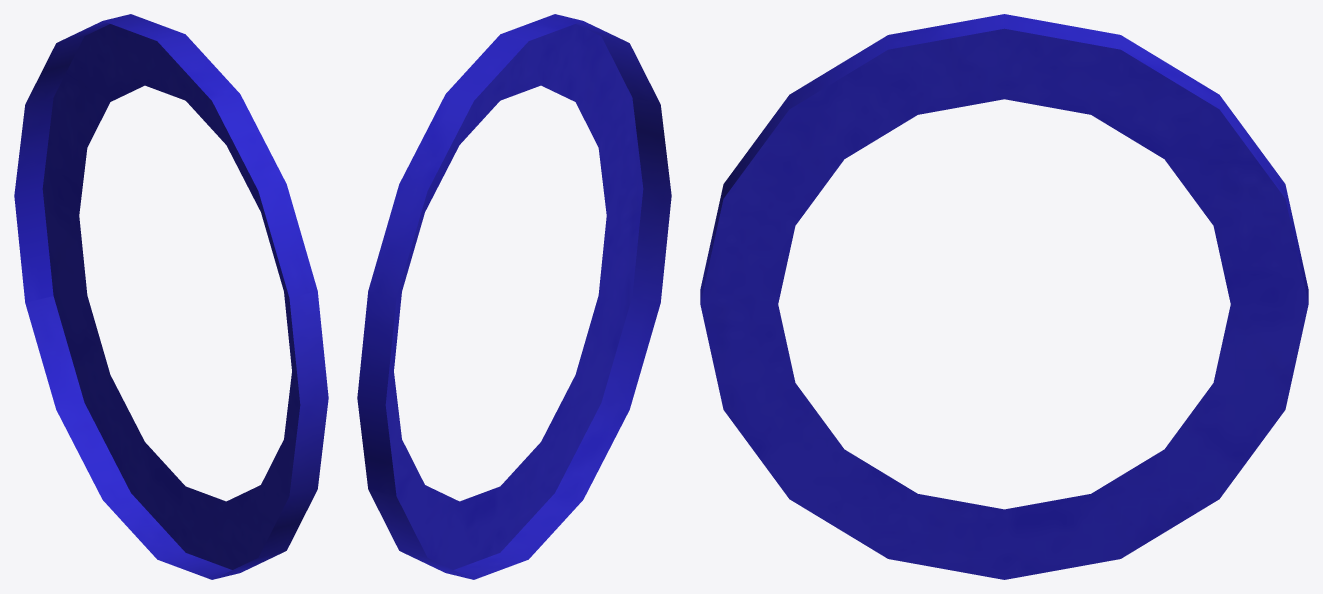
The model's file is pipeFlangeSingle.fbx.
3 renders of one model, left to right at view 1: azimuth 30°, elevation 25°; view 2: azimuth 150°, elevation 25°; view 3: azimuth 270°, elevation 25°, orthographic. The views are drawn at different scales.
Visible parts, largest first — view 1: pipeFlange; view 2: pipeFlange; view 3: pipeFlange.
Boxes of the visible parts, x1,y1,x2,y2 form: pipeFlange: (14, 14, 328, 579); pipeFlange: (357, 14, 671, 579); pipeFlange: (700, 14, 1308, 579).
Size of the model in its own units: 0.0246 by 0.4296 by 0.4296.
